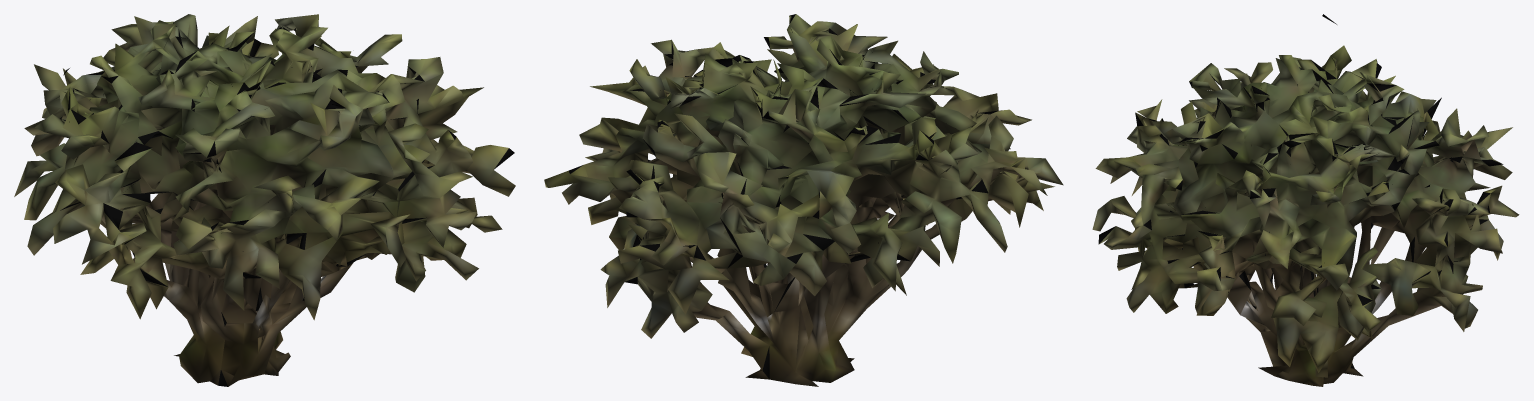
The model's file is shrub_briar.glb.
The picture shows the model from 3 angles, left to right: view 1: azimuth 30°, elevation 25°; view 2: azimuth 150°, elevation 25°; view 3: azimuth 270°, elevation 25°; orthographic projection. The views are drawn at different scales.
Parts seen in each view (by area): view 1: MV_shrub_briar; view 2: MV_shrub_briar; view 3: MV_shrub_briar.
Part boxes in pixels (x1,y1,x2,y2): MV_shrub_briar: (14,14,515,386); MV_shrub_briar: (544,14,1063,386); MV_shrub_briar: (1092,14,1519,386).
Bounding box in the file's own units: 0.9701 × 0.68 × 0.9007.
Materials: 1 (1 with a texture image).
